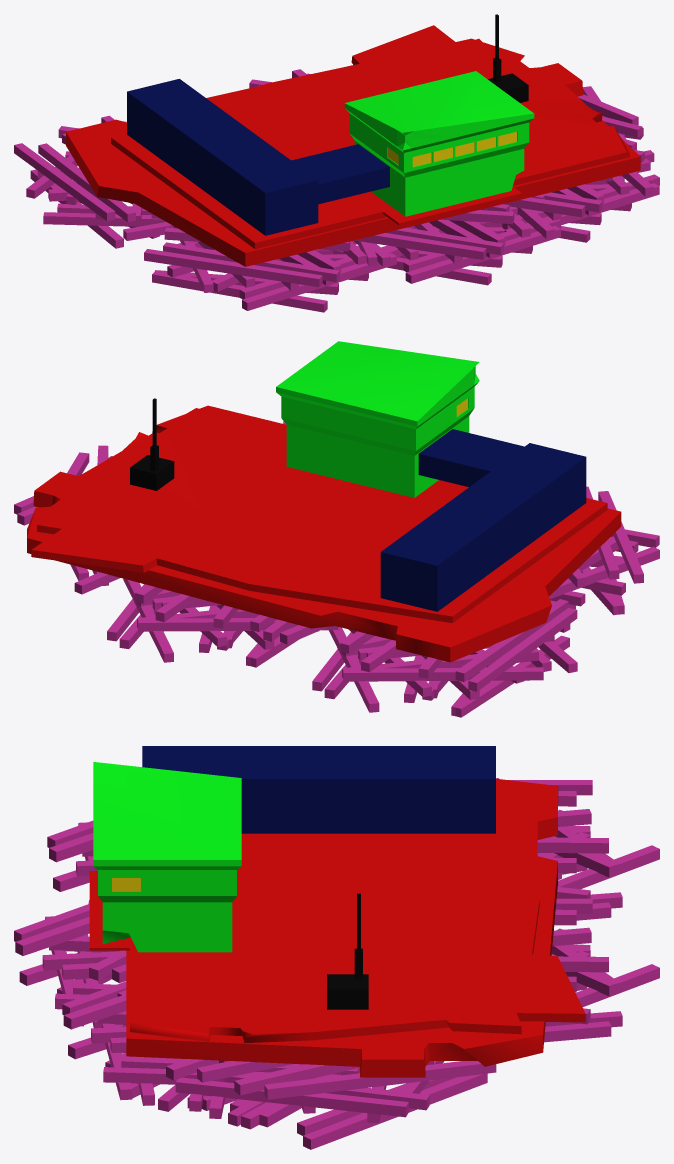
Rendered from floating_camp.FBX.
3 views of the same model, one above another, from view 1: azimuth 30°, elevation 25°; view 2: azimuth 150°, elevation 25°; view 3: azimuth 270°, elevation 25° (orthographic). The views are drawn at different scales.
Parts seen in each view (by area): view 1: Box006, Box011, Box009, Box012, Box117, Box013, Box091, Box104, Box130, Box137, Box122, Box018 (+23 smaller); view 2: Box006, Box009, Box011, Box012, Box020, Box013, Box010, Box018, Box046, Box033, Box124, Box117 (+10 smaller); view 3: Box006, Box009, Box011, Box012, Box066, Box071, Box084, Box010, Box069, Box027, Box149, Box096 (+22 smaller).
Boxes of the visible parts, x1,y1,x2,y2 form: Box006: (111,25,629,249); Box011: (127,79,389,235); Box009: (344,71,534,216); Box012: (66,38,640,266); Box117: (144,249,322,286); Box013: (14,143,115,221); Box091: (354,233,486,259); Box104: (405,226,560,283); Box130: (242,253,396,310); Box137: (152,270,327,312); Box122: (163,242,339,282); Box018: (38,143,135,222); Box006: (31,405,607,623); Box009: (276,341,479,497); Box011: (380,429,586,611); Box012: (27,408,621,662); Box020: (343,667,543,681); Box013: (468,608,577,691); Box010: (130,398,174,490); Box018: (455,599,568,681); Box046: (138,618,338,631); Box033: (453,635,569,717); Box124: (549,546,659,598); Box117: (598,491,643,583); Box006: (89,791,585,1042); Box009: (93,762,241,952); Box011: (142,746,495,833); Box012: (126,778,558,1077); Box066: (264,1061,496,1099); Box071: (175,1077,408,1117); Box084: (303,1073,487,1149); Box010: (327,893,368,1009); Box069: (234,1064,359,1095); Box027: (558,845,659,889); Box149: (103,1067,340,1084); Box096: (15,916,89,955).
Size of the model in its own units: 212 by 53.44 by 169.
